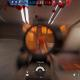Character: (36, 37, 42, 50)
Head: (37, 38, 39, 40)
